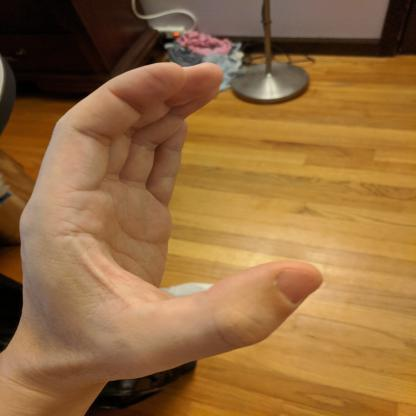C: (0, 56, 331, 386)
